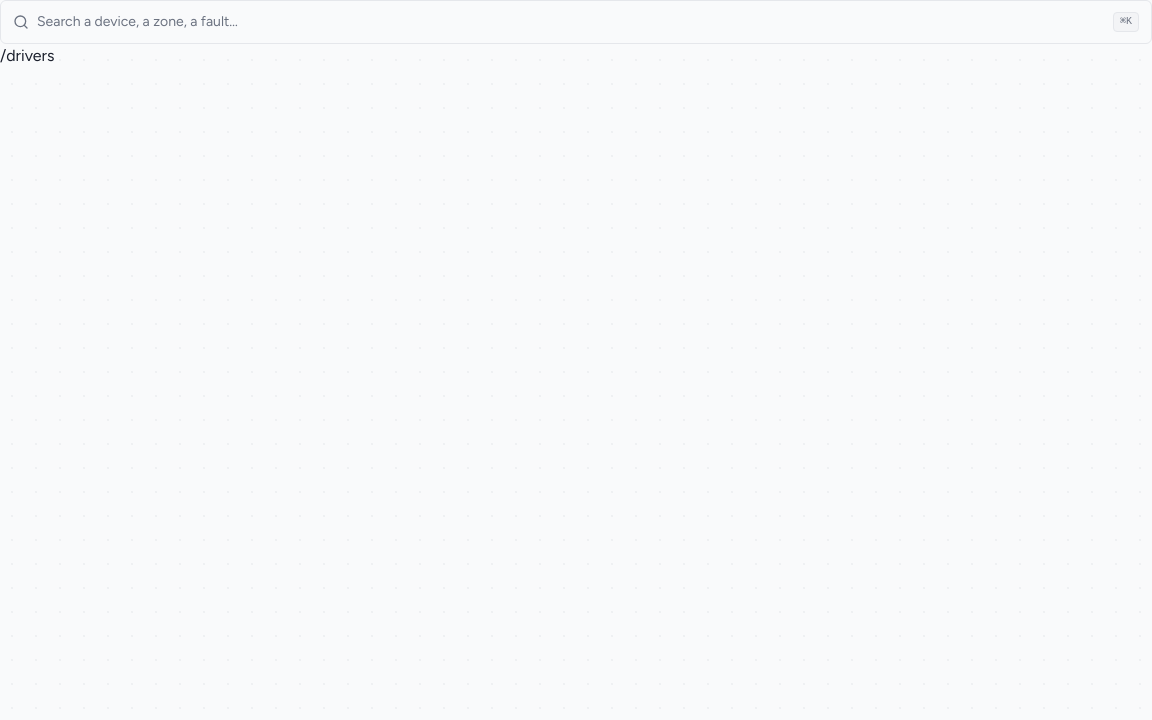
Test: GlobalSearch › preserves fuzzy zone and fault search for BldA
Type keys "{Meta>}k{/Meta}"
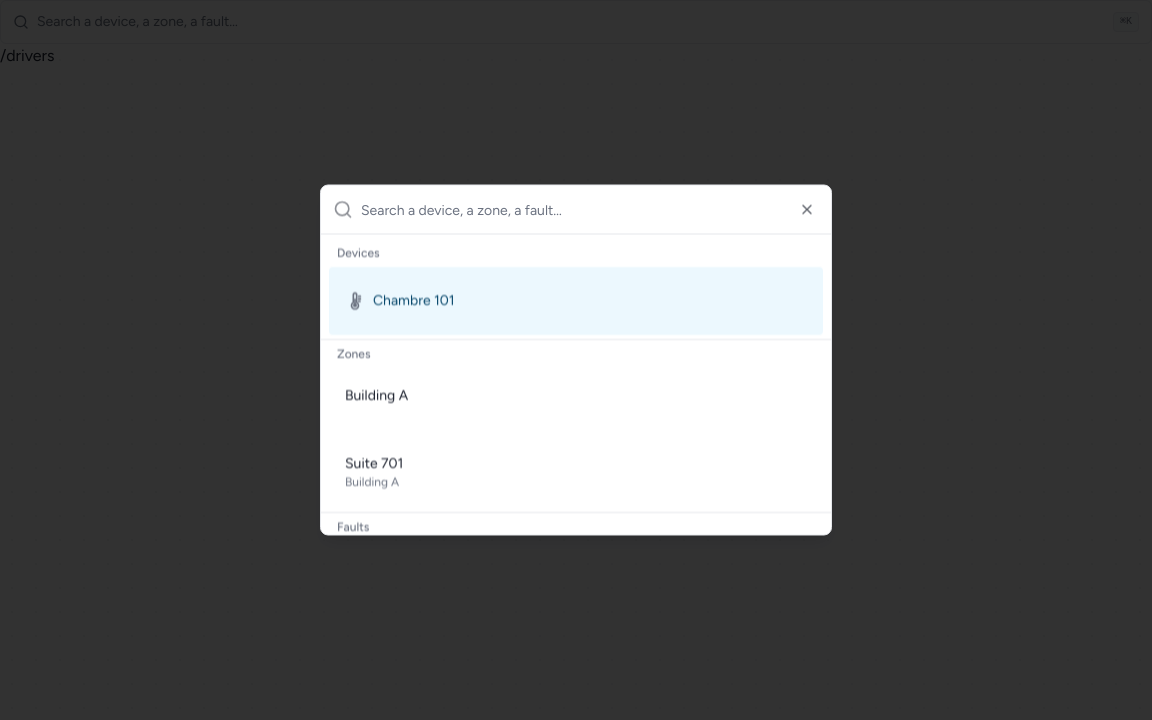
Type "BldA" into the dropdown at [590, 210], box [361, 186, 819, 234]
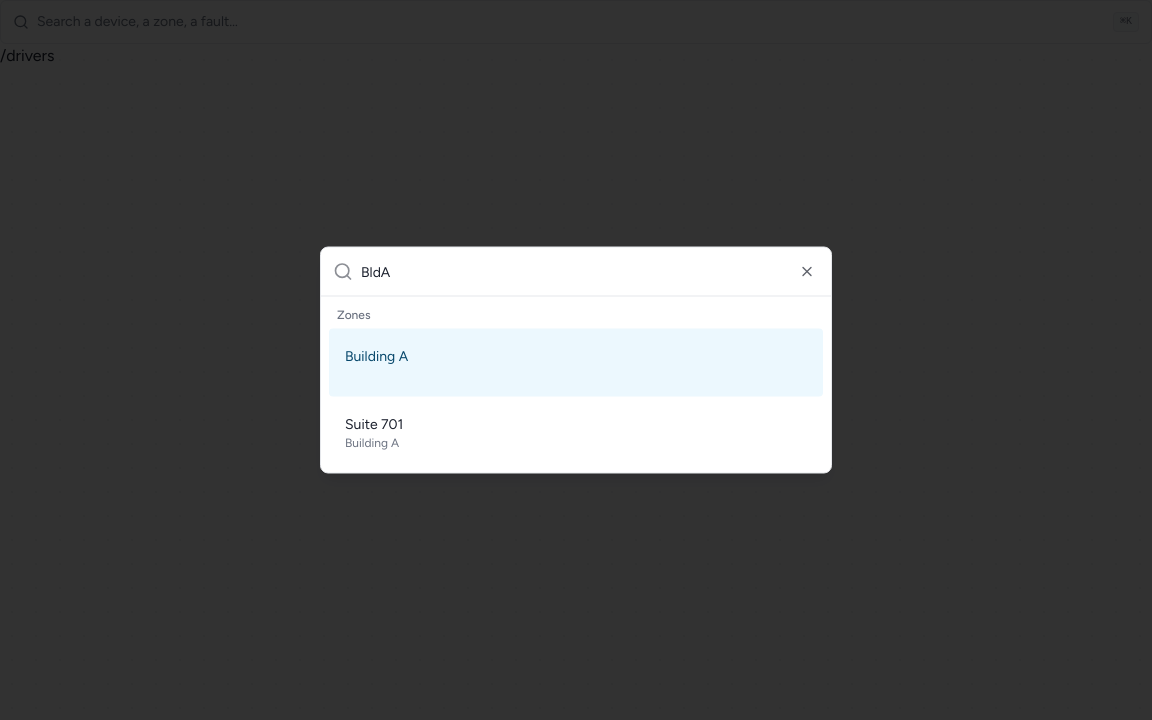
Click the option "Suite 701 Building A" at [374, 432], box [345, 416, 403, 450]
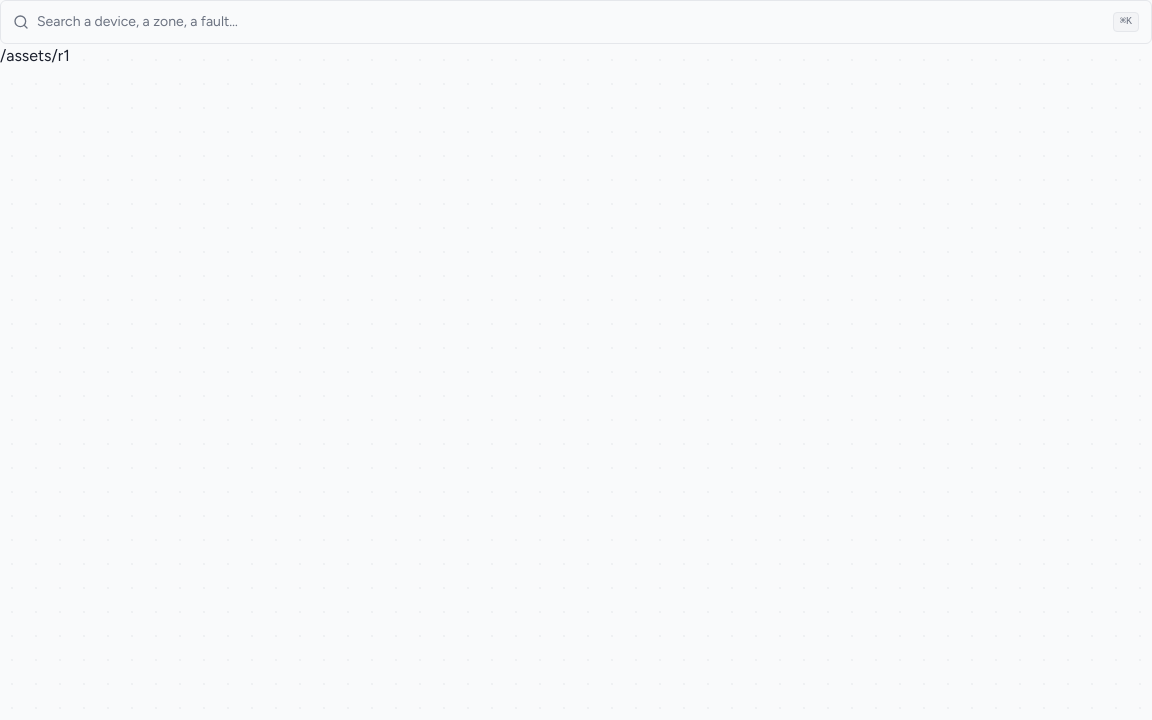
Expected: the text with test id "pathname" reads "/assets/r1", [0, 46, 70, 65]
